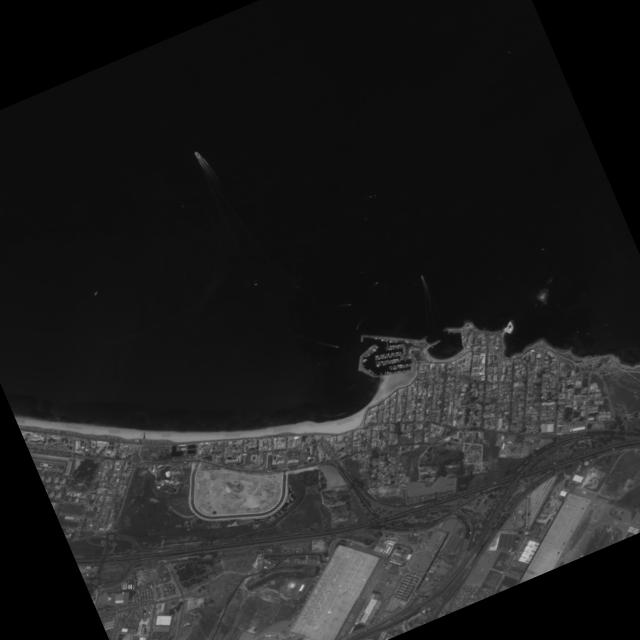plane: (264, 631, 273, 639), (324, 607, 332, 614), (331, 615, 338, 620), (330, 576, 336, 581), (360, 576, 366, 581), (336, 582, 342, 587), (323, 588, 329, 592), (311, 588, 317, 592), (344, 553, 349, 557), (348, 541, 352, 545), (328, 561, 332, 565), (332, 553, 336, 557), (337, 545, 341, 549), (330, 556, 334, 560), (326, 564, 330, 568), (324, 568, 328, 572), (333, 573, 337, 577), (305, 600, 309, 603)
storage-tank: (510, 515, 525, 529), (511, 504, 526, 518), (308, 456, 313, 462), (306, 459, 309, 463)
